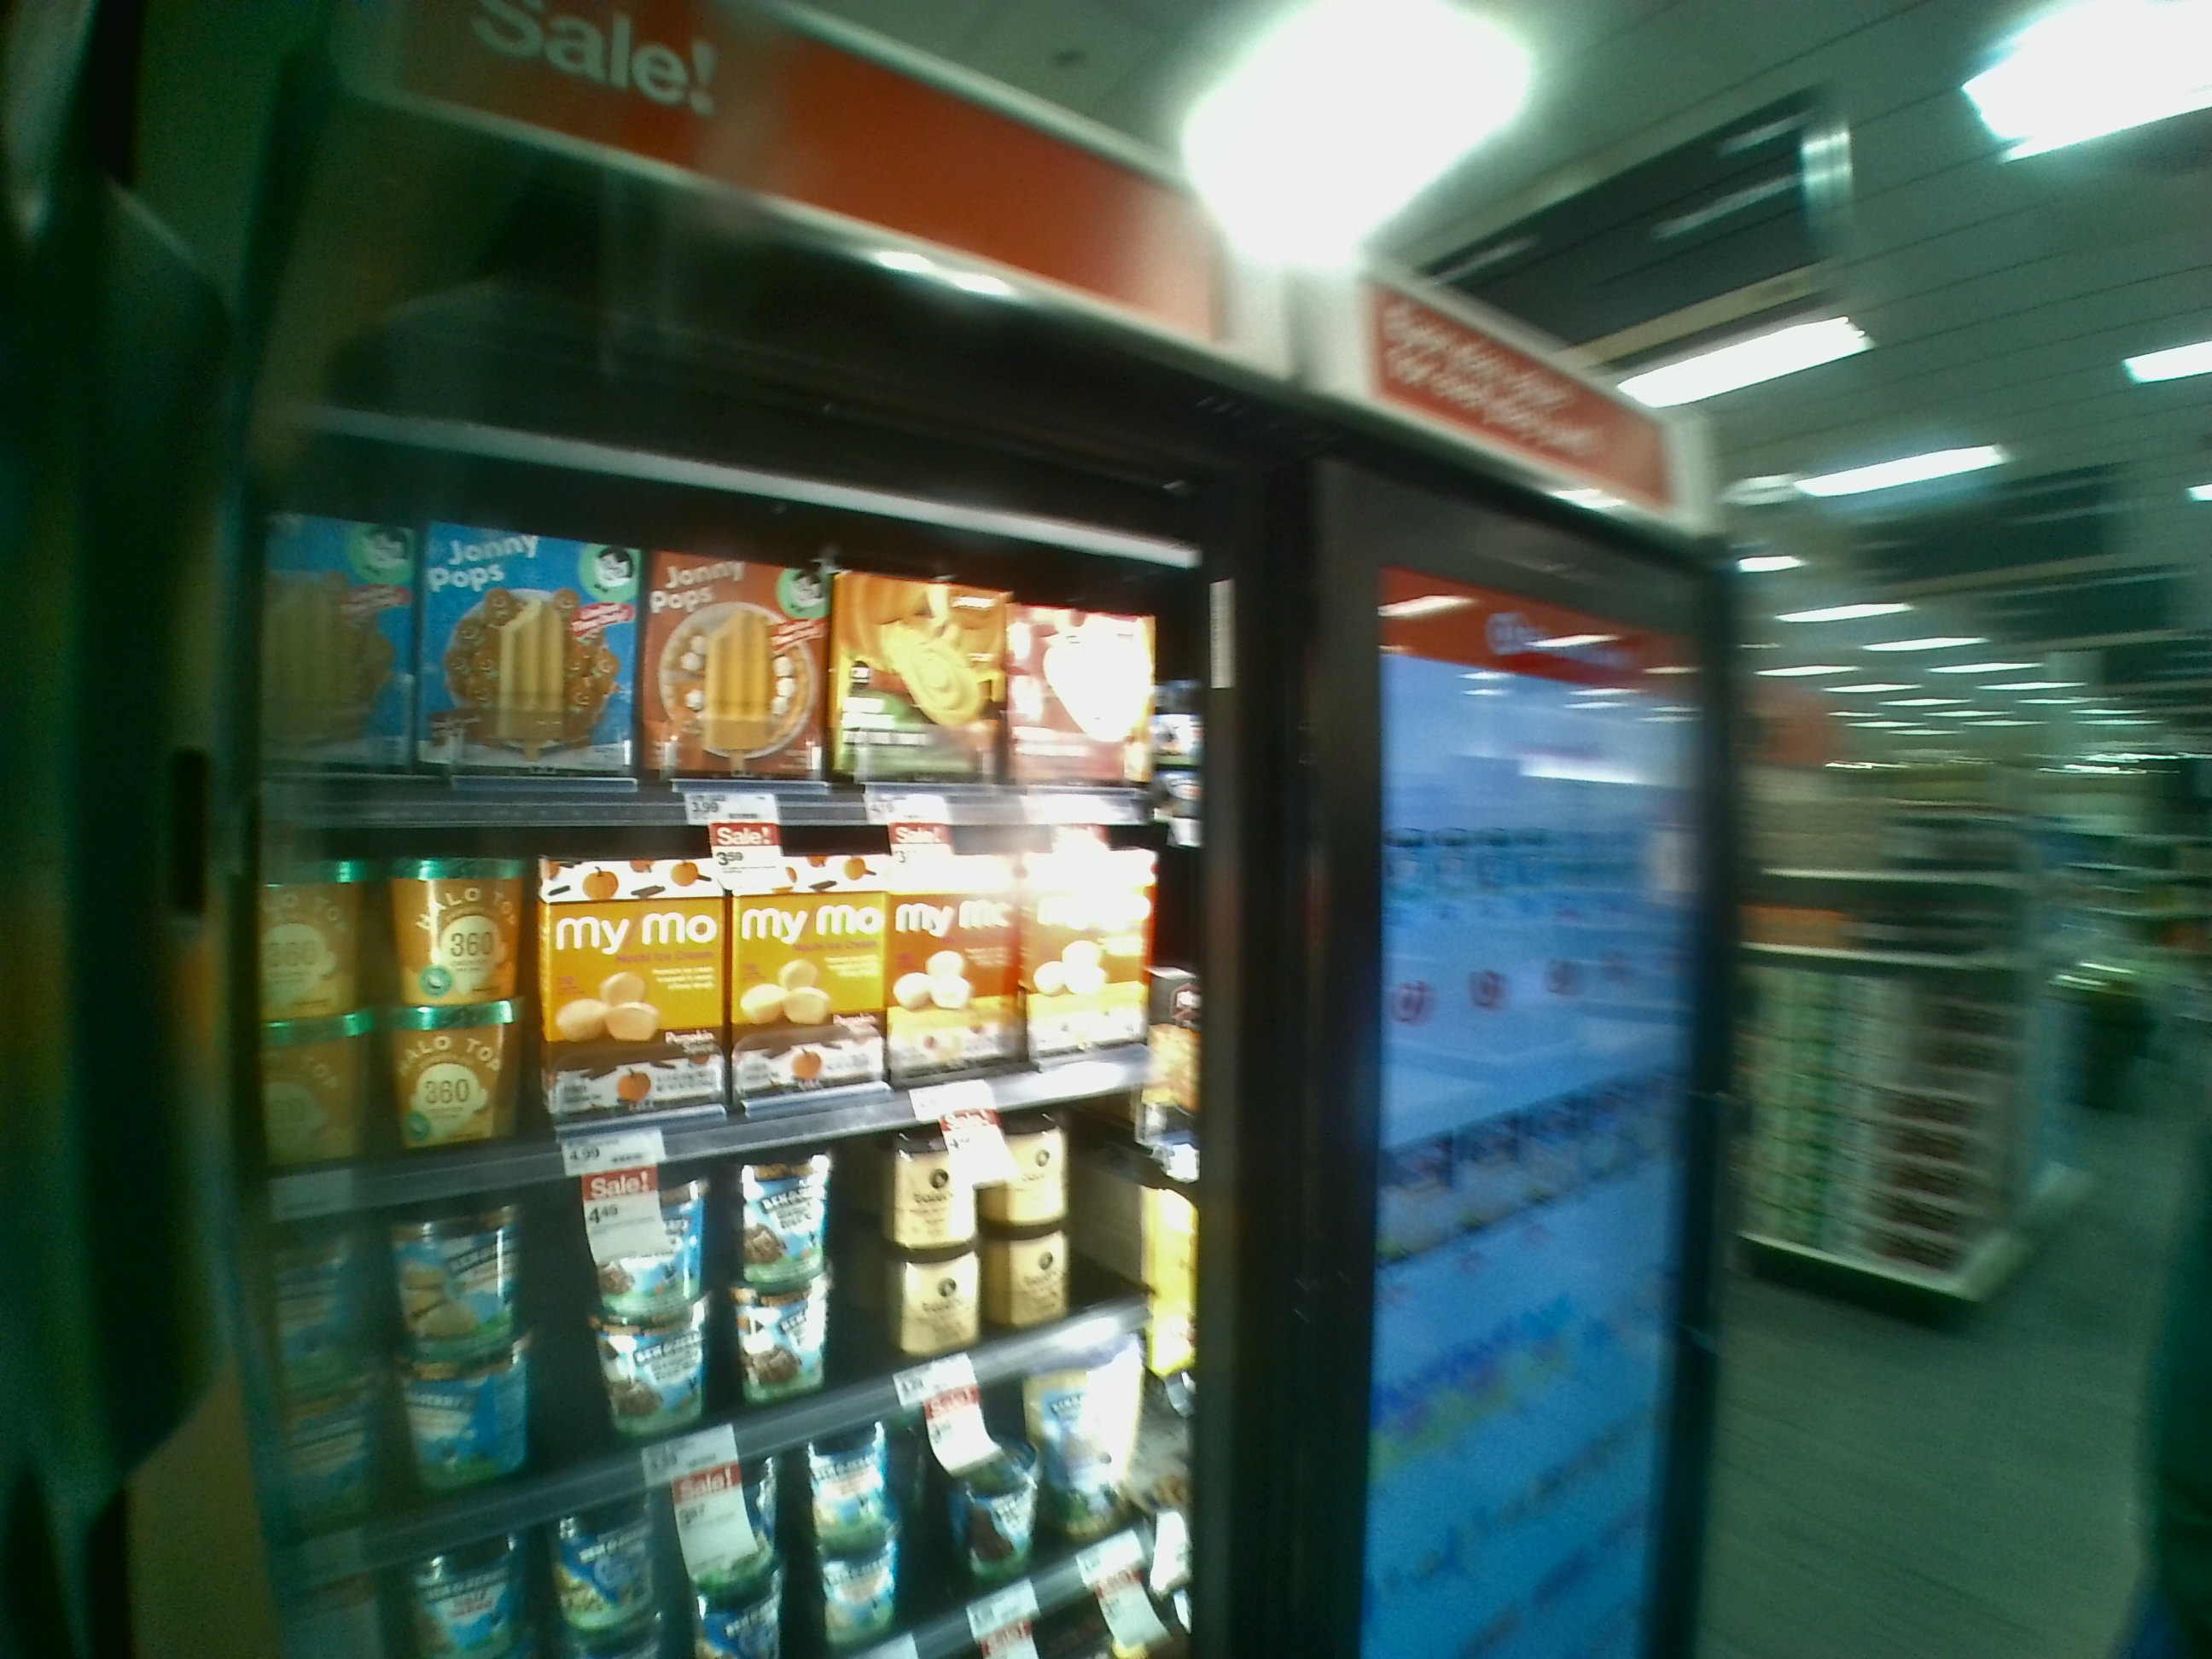shelf: (273, 809, 1217, 1201), (268, 497, 1224, 821)
